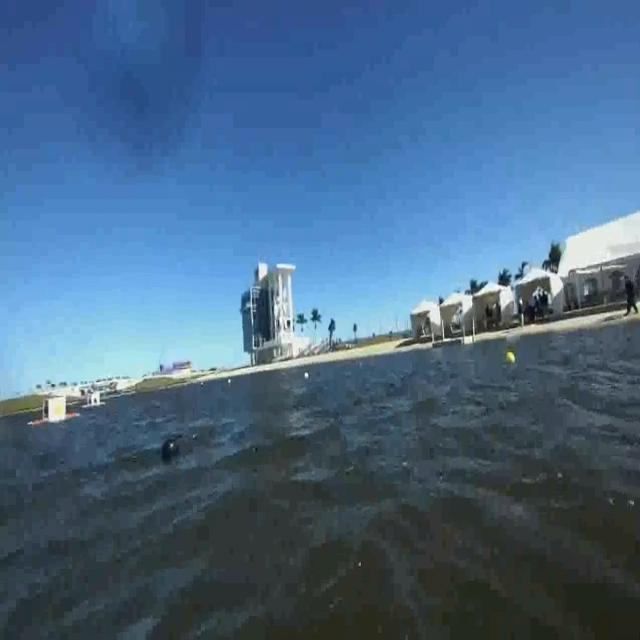black-buoy: (160, 436, 178, 462)
yellow-buoy: (505, 349, 515, 365)
